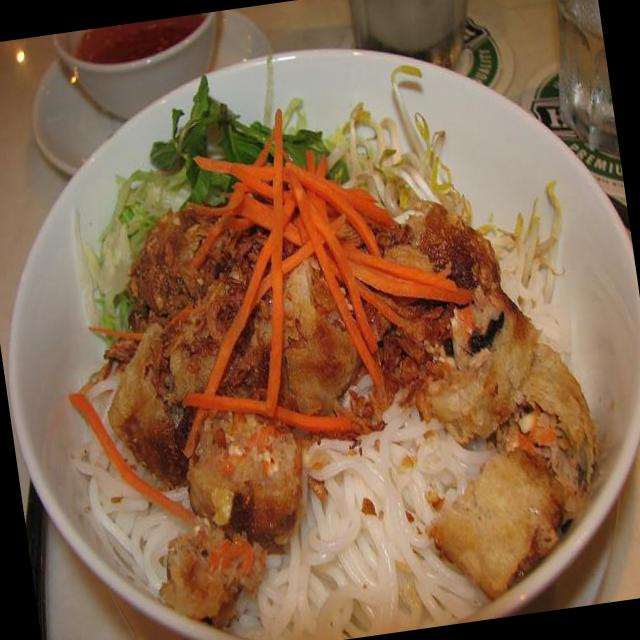bowl: (0, 8, 640, 640)
carrot: (140, 87, 494, 461), (67, 371, 195, 539)
cup: (46, 11, 232, 130), (540, 0, 620, 162), (348, 0, 478, 62)
fork: (19, 474, 71, 640)
